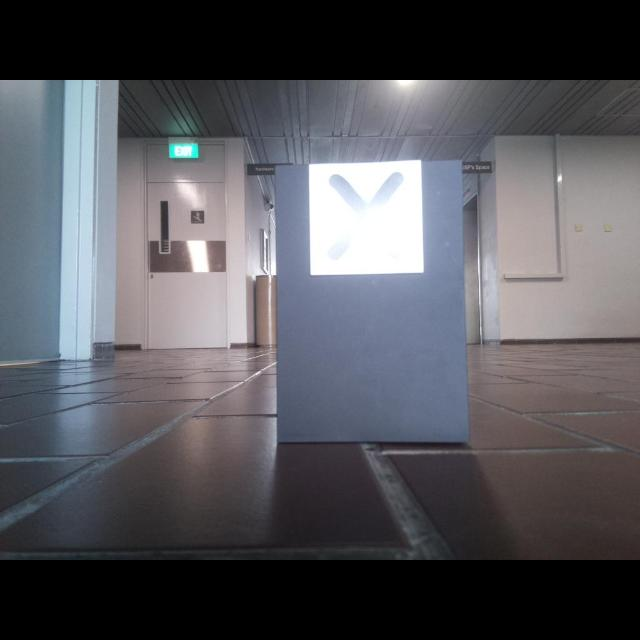X: (327, 171, 406, 261)
